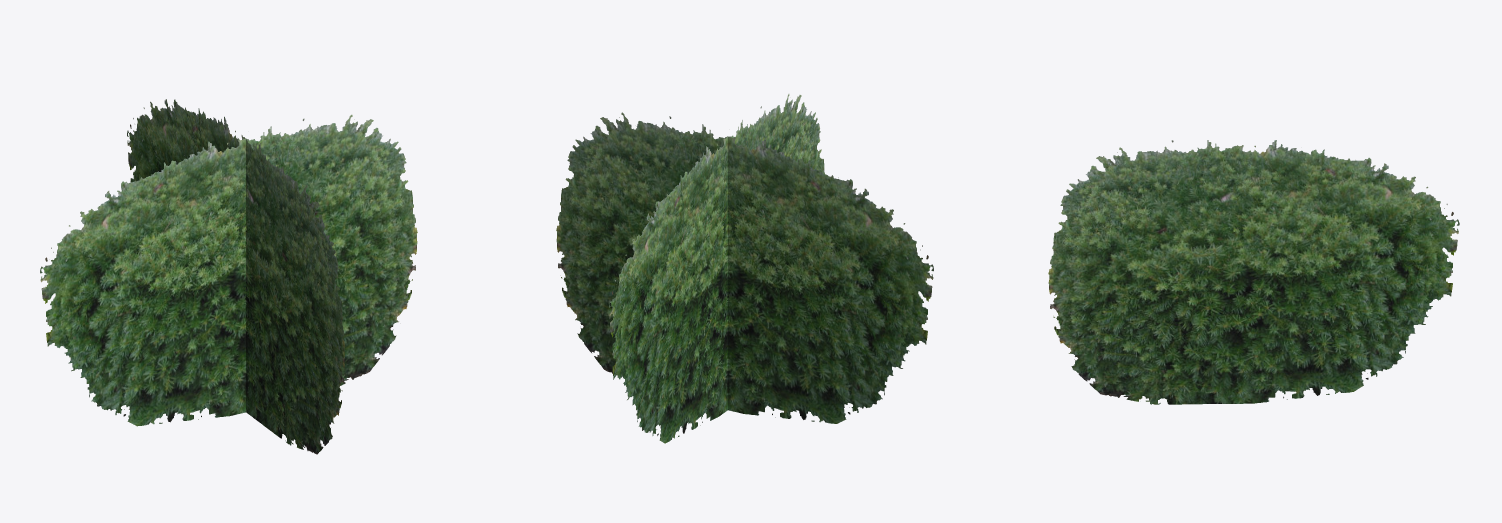
The model's file is ker1.dae.
The picture shows the model from 3 angles, left to right: view 1: azimuth 30°, elevation 25°; view 2: azimuth 150°, elevation 25°; view 3: azimuth 270°, elevation 25°; orthographic projection. The views are drawn at different scales.
Parts seen in each view (by area): view 1: SketchUp (×2); view 2: SketchUp (×2); view 3: SketchUp.
Part boxes in pixels (x1,y1,x2,y2): SketchUp (×2): (40, 99, 417, 454); SketchUp (×2): (556, 94, 933, 443); SketchUp: (1048, 140, 1459, 404).
Size of the model in its own units: 58.61 by 58.61 by 36.76.
1 material, 1 textured.
